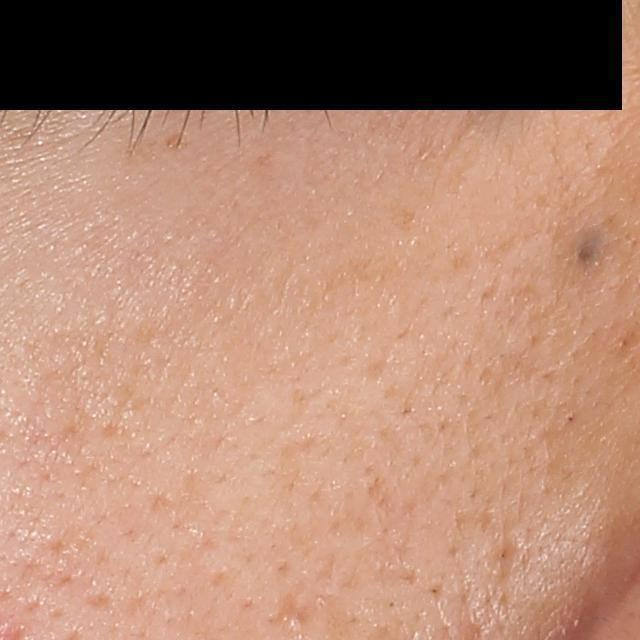atrophic_scar: (265, 590, 315, 632)
